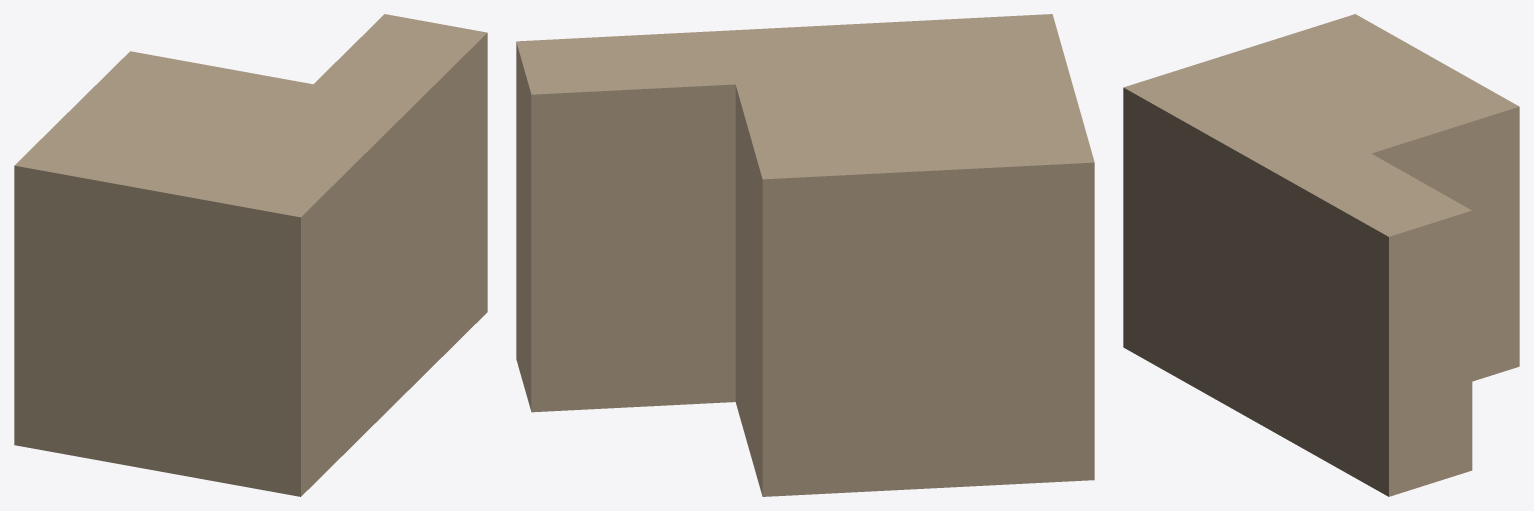
Rendered from bld_101805891.dae.
3 renders of one model, left to right at view 1: azimuth 30°, elevation 25°; view 2: azimuth 150°, elevation 25°; view 3: azimuth 270°, elevation 25°, orthographic. The views are drawn at different scales.
Visible parts, largest first — view 1: bld_101805891; view 2: bld_101805891; view 3: bld_101805891.
Boxes of the visible parts, x1,y1,x2,y2 form: bld_101805891: (14, 14, 487, 496); bld_101805891: (516, 14, 1094, 496); bld_101805891: (1123, 14, 1519, 496).
Bounding box in the file's own units: 14.71 × 11.05 × 8.
